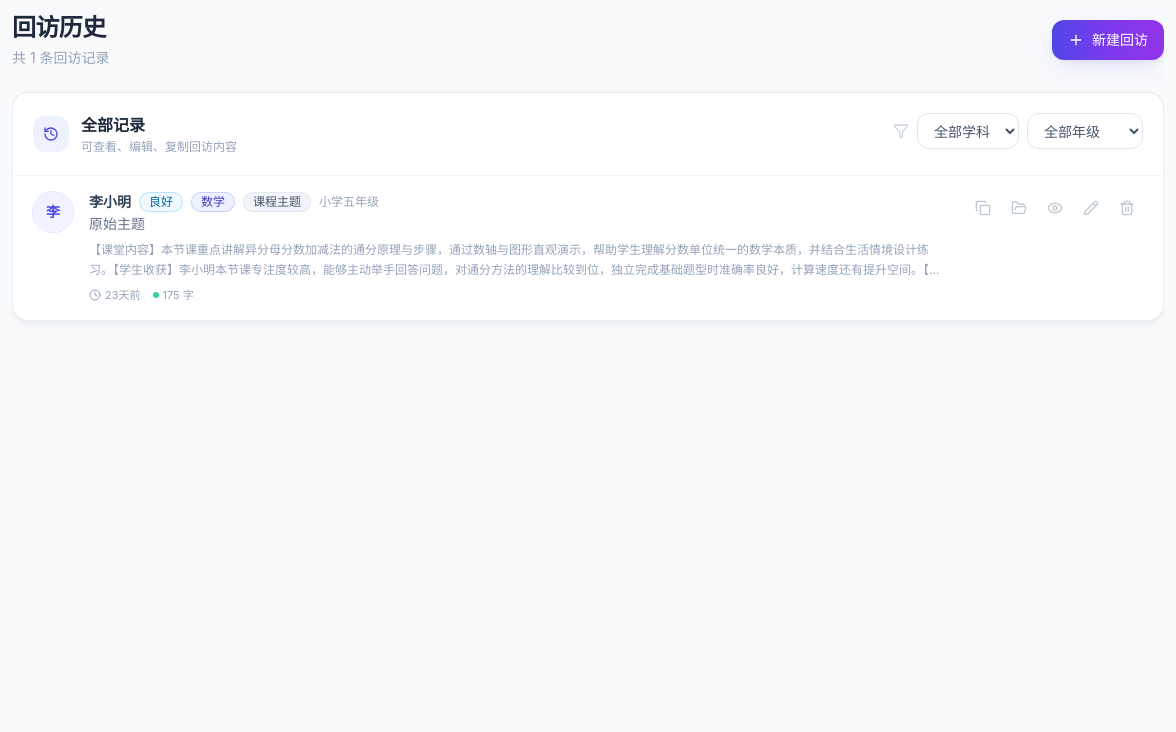
Test case: 回访历史 · 编辑 › 主题或内容为空时拒绝提交
The width and height of the screenshot is (1176, 732).
Expected: the text "原始主题" is shown, [89,215,145,232]
Click the button titled "编辑" at (1091, 208), box [1075,192,1107,224]
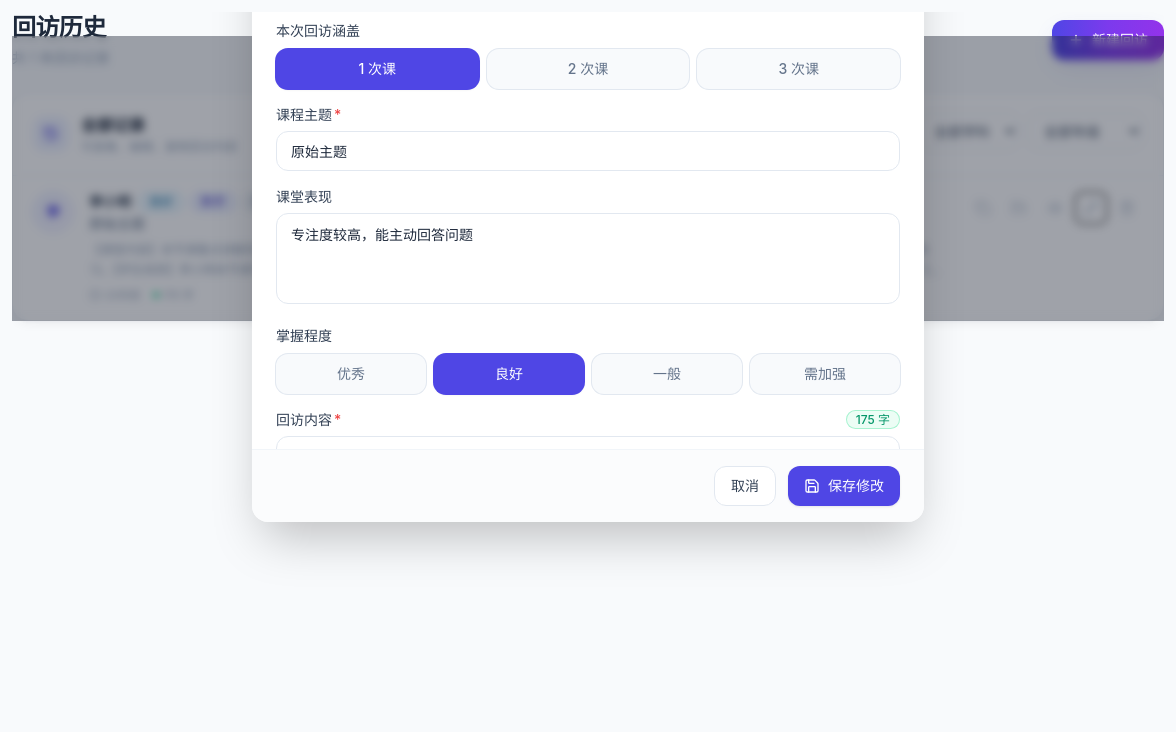
Clear the field labelled "课程主题*" at (588, 151), box [276,131,900,171]
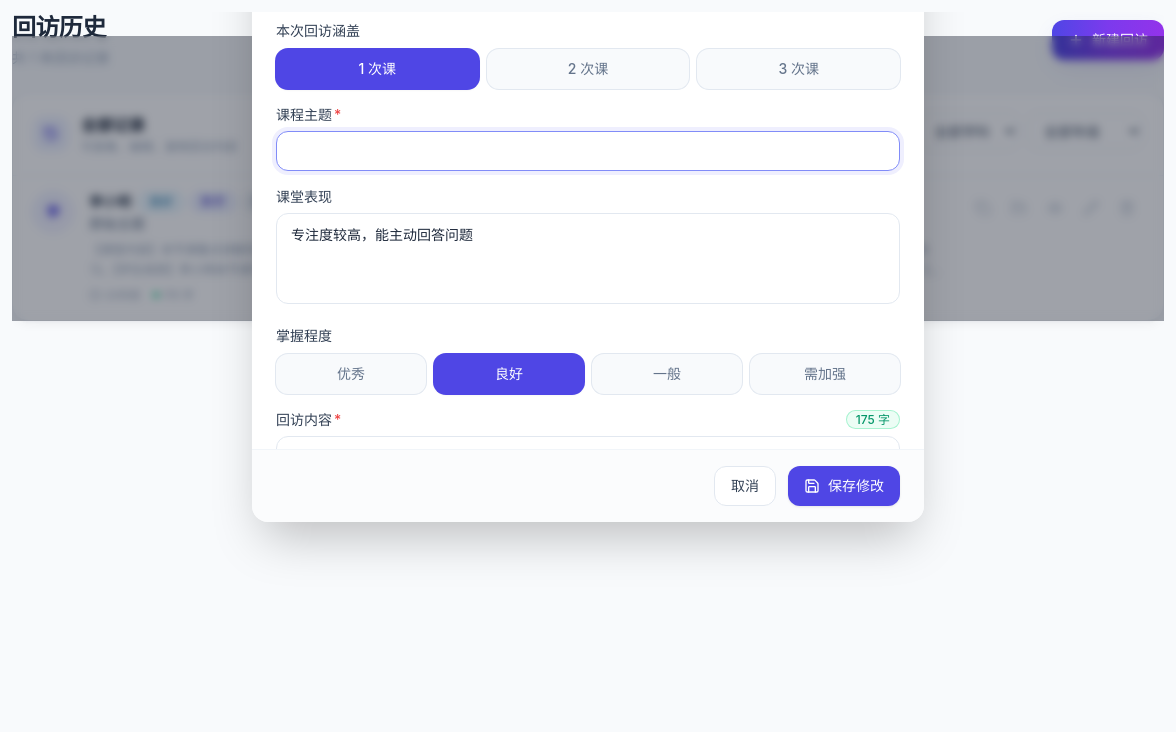
Click the button "保存修改" at (844, 486), box [788,466,900,506]
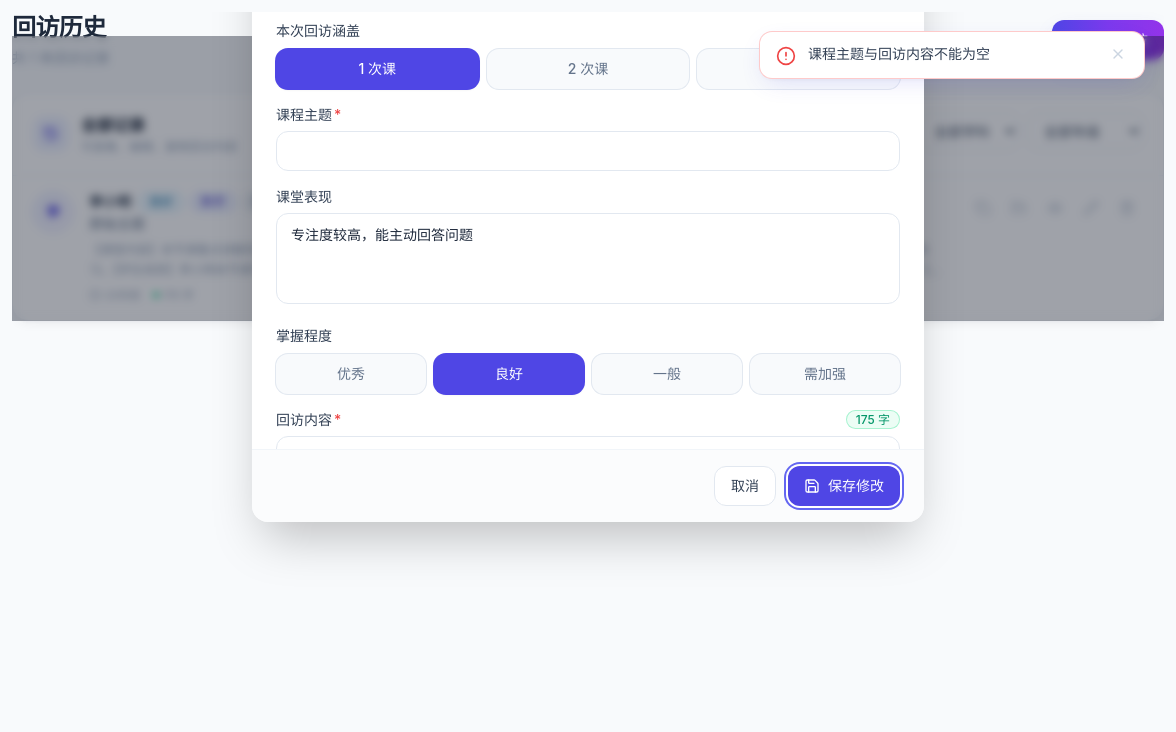
Now the text "课程主题与回访内容不能为空" is shown, box [808,45,990,62]
